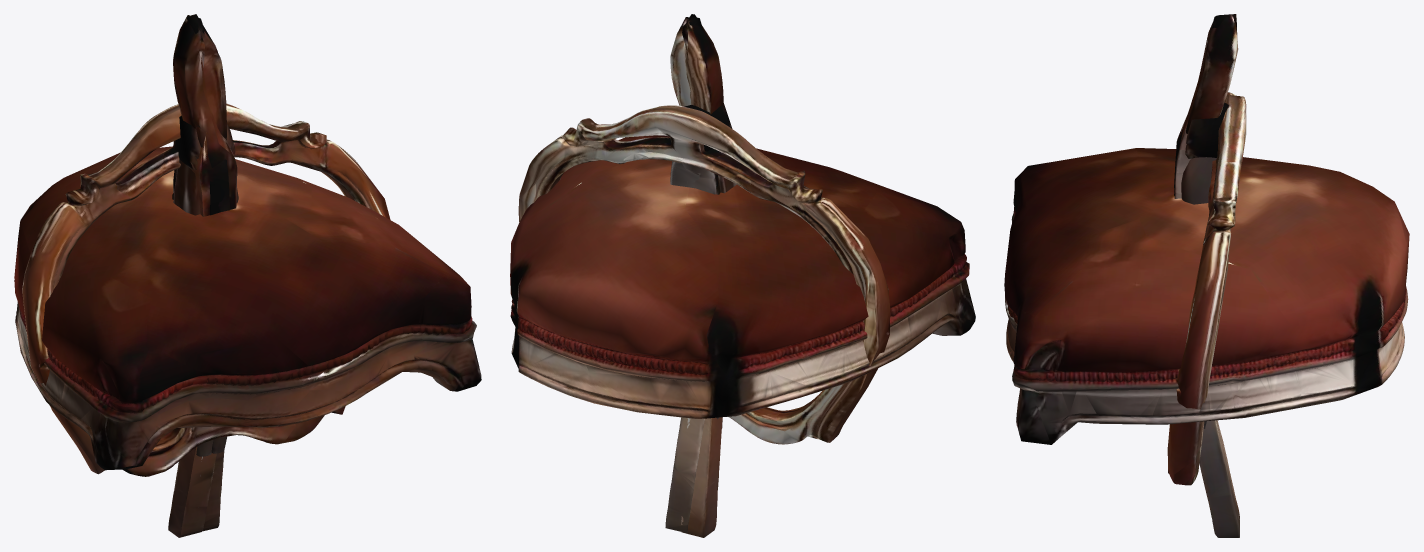
3 views of the same model, side by side, from view 1: azimuth 30°, elevation 25°; view 2: azimuth 150°, elevation 25°; view 3: azimuth 270°, elevation 25° (orthographic).
Visible parts, largest first — view 1: root.0, root.1, root.3, root.2, root.4, root.5; view 2: root.0, root.1, root.2, root.3, root.5, root.4; view 3: root.0, root.1, root.2, root.3, root.5, root.4.
Part boxes in pixels (box(x1,y1,x2,y2)): root.0: box(14, 146, 481, 470); root.1: box(22, 103, 390, 476); root.3: box(168, 14, 230, 537); root.2: box(173, 15, 237, 531); root.4: box(172, 124, 235, 456); root.5: box(174, 115, 238, 453); root.0: box(510, 135, 975, 418); root.1: box(518, 105, 890, 444); root.2: box(665, 14, 723, 532); root.3: box(670, 17, 722, 537); root.5: box(670, 103, 732, 187); root.4: box(682, 106, 736, 427); root.0: box(1004, 148, 1409, 444); root.1: box(1167, 92, 1246, 485); root.2: box(1174, 14, 1239, 537); root.3: box(1174, 14, 1239, 519); root.5: box(1181, 103, 1228, 428); root.4: box(1185, 111, 1225, 158).
Size of the model in its own units: 15781 by 20808 by 14803.
Materials: 1 (1 with a texture image).
